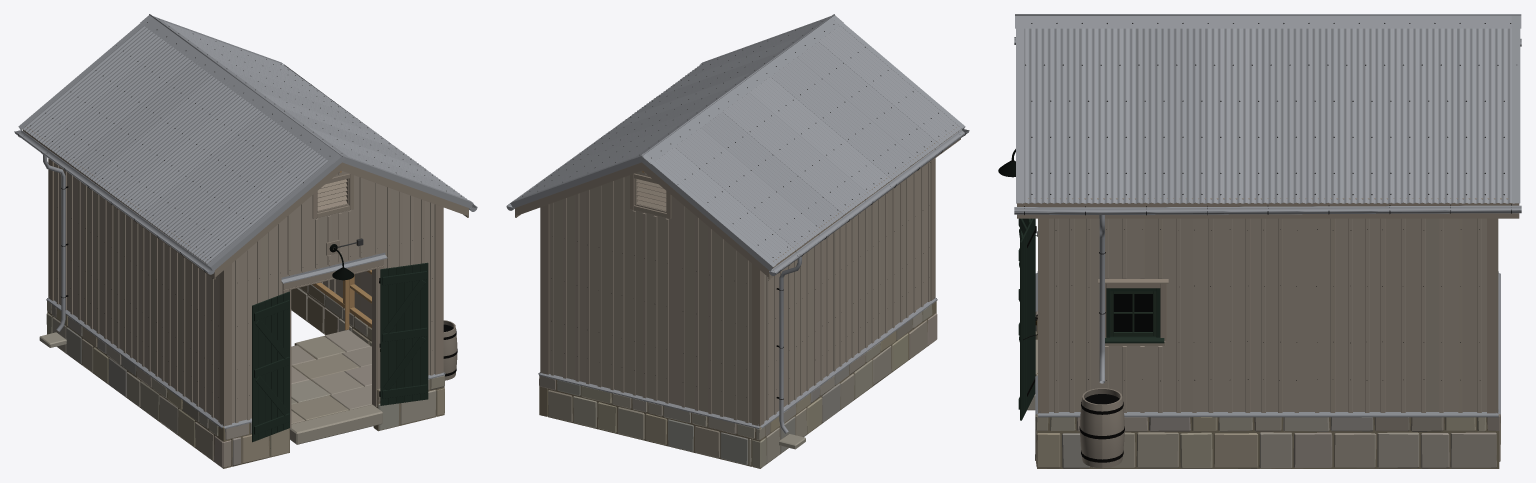
Rendered from shed.glb.
The picture shows the model from 3 angles, left to right: view 1: azimuth 30°, elevation 25°; view 2: azimuth 150°, elevation 25°; view 3: azimuth 270°, elevation 25°; orthographic projection. The views are drawn at different scales.
Parts seen in each view (by area): view 1: shed_w_ext, shed_h_roof, shed_h_stone, shed_h_small, shed_w_int; view 2: shed_w_ext, shed_h_roof, shed_h_stone, shed_h_small; view 3: shed_h_roof, shed_w_ext, shed_h_stone, shed_h_small.
Part boxes in pixels (bbox=[...]): shed_w_ext: bbox=[23, 125, 468, 442]; shed_h_roof: bbox=[14, 14, 477, 428]; shed_h_stone: bbox=[39, 284, 444, 468]; shed_h_small: bbox=[18, 19, 461, 397]; shed_w_int: bbox=[312, 171, 371, 330]; shed_w_ext: bbox=[515, 127, 960, 426]; shed_h_roof: bbox=[506, 14, 969, 433]; shed_h_stone: bbox=[539, 301, 937, 468]; shed_h_small: bbox=[522, 21, 965, 399]; shed_h_roof: bbox=[1014, 14, 1521, 417]; shed_w_ext: bbox=[1017, 198, 1519, 468]; shed_h_stone: bbox=[1027, 311, 1500, 468]; shed_h_small: bbox=[998, 23, 1516, 462].
Size of what is drawn, in the model's own units: 5.14 by 5.11 by 6.32.
